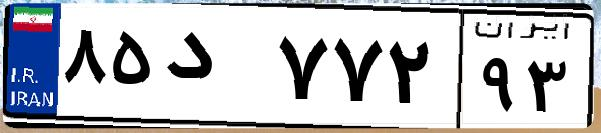2: (385, 28, 445, 110)
3: (525, 38, 570, 115)
5: (110, 28, 158, 98)
7: (270, 28, 330, 110), (330, 28, 385, 110)
8: (57, 26, 110, 100)
9: (475, 38, 525, 113)
د: (158, 20, 270, 120)
